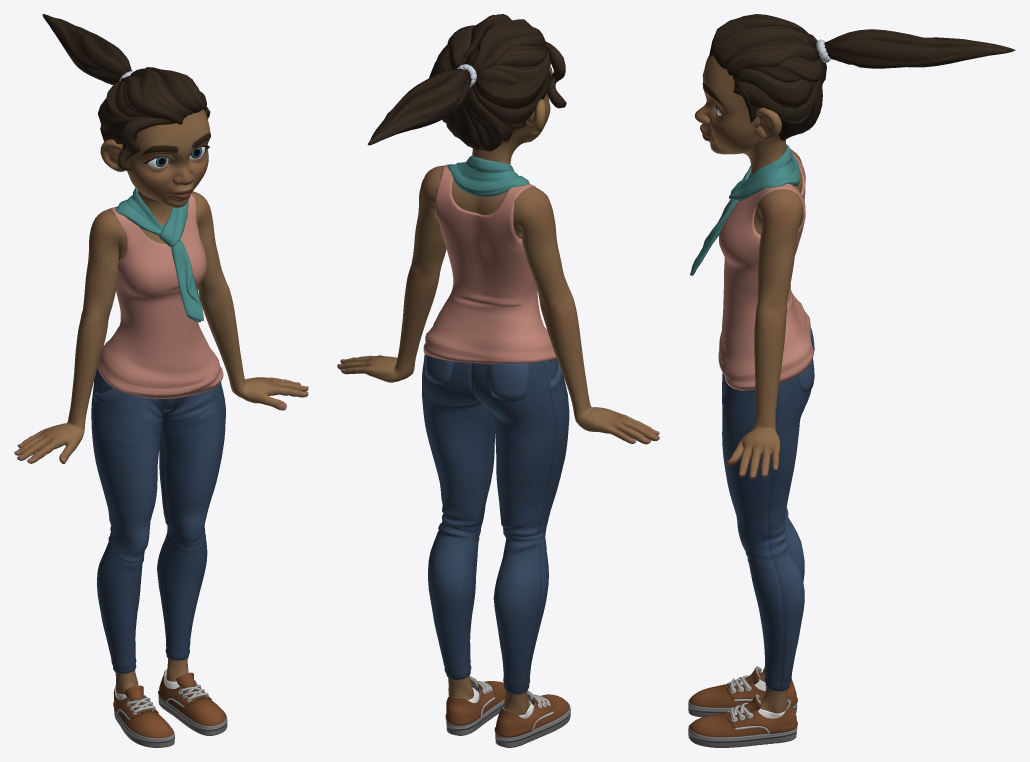
Rendered from teacher-li.glb.
The picture shows the model from 3 angles, left to right: view 1: azimuth 30°, elevation 25°; view 2: azimuth 150°, elevation 25°; view 3: azimuth 270°, elevation 25°; orthographic projection. The views are drawn at different scales.
Parts seen in each view (by area): view 1: GEO-rain_jeans.001, GEO-rain_top.001, GEO-rain_body.001, GEO-rain_head.001, GEO-rain_shoes.001, GEO-rain_hair_main.001, GEO-rain_scarf.001, GEO-rain_hair_ponytail.001, GEO-rain_hair_strand.001; view 2: GEO-rain_jeans.001, GEO-rain_body.001, GEO-rain_top.001, GEO-rain_hair_main.001, GEO-rain_shoes.001, GEO-rain_hair_ponytail.001, GEO-rain_scarf.001, GEO-rain_head.001, GEO-rain_hair_strand.001; view 3: GEO-rain_jeans.001, GEO-rain_body.001, GEO-rain_hair_main.001, GEO-rain_top.001, GEO-rain_shoes.001, GEO-rain_head.001, GEO-rain_hair_ponytail.001, GEO-rain_scarf.001.
Boxes of the visible parts, x1=… form: GEO-rain_jeans.001: x1=91, y1=368, x2=225, y2=673; GEO-rain_top.001: x1=97, y1=194, x2=223, y2=398; GEO-rain_body.001: x1=14, y1=191, x2=308, y2=694; GEO-rain_head.001: x1=100, y1=109, x2=210, y2=222; GEO-rain_shoes.001: x1=113, y1=669, x2=227, y2=747; GEO-rain_hair_main.001: x1=98, y1=67, x2=210, y2=149; GEO-rain_scarf.001: x1=115, y1=187, x2=203, y2=322; GEO-rain_hair_ponytail.001: x1=42, y1=14, x2=131, y2=84; GEO-rain_hair_strand.001: x1=117, y1=117, x2=175, y2=170; GEO-rain_jeans.001: x1=422, y1=354, x2=569, y2=694; GEO-rain_body.001: x1=337, y1=165, x2=659, y2=715; GEO-rain_top.001: x1=423, y1=164, x2=556, y2=364; GEO-rain_hair_main.001: x1=429, y1=14, x2=550, y2=151; GEO-rain_shoes.001: x1=445, y1=676, x2=570, y2=747; GEO-rain_hair_ponytail.001: x1=367, y1=69, x2=471, y2=145; GEO-rain_scarf.001: x1=447, y1=155, x2=529, y2=196; GEO-rain_head.001: x1=472, y1=65, x2=551, y2=164; GEO-rain_hair_strand.001: x1=544, y1=41, x2=566, y2=108; GEO-rain_jeans.001: x1=722, y1=327, x2=814, y2=691; GEO-rain_body.001: x1=726, y1=149, x2=803, y2=713; GEO-rain_hair_main.001: x1=709, y1=14, x2=826, y2=140; GEO-rain_top.001: x1=718, y1=152, x2=813, y2=390; GEO-rain_shoes.001: x1=688, y1=666, x2=797, y2=747; GEO-rain_head.001: x1=695, y1=55, x2=786, y2=176; GEO-rain_hair_ponytail.001: x1=824, y1=29, x2=1015, y2=68; GEO-rain_scarf.001: x1=690, y1=144, x2=800, y2=275.
Bounding box in the file's own units: 0.779 × 1.65 × 0.6957.
Materials: 19 (9 with a texture image).
